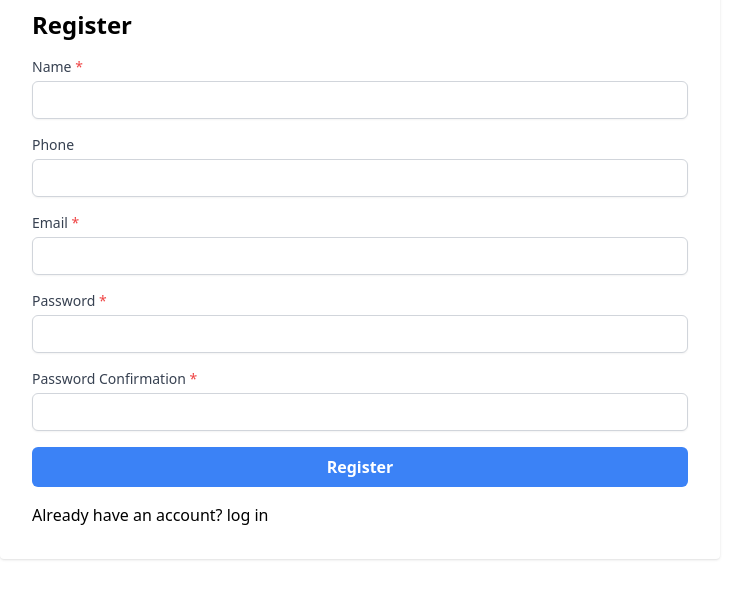
Test: Register page tests › Form validation › Name should be required
Type "User" into the field with id "name" at (360, 100), box x1=32 y1=81 x2=688 y2=119
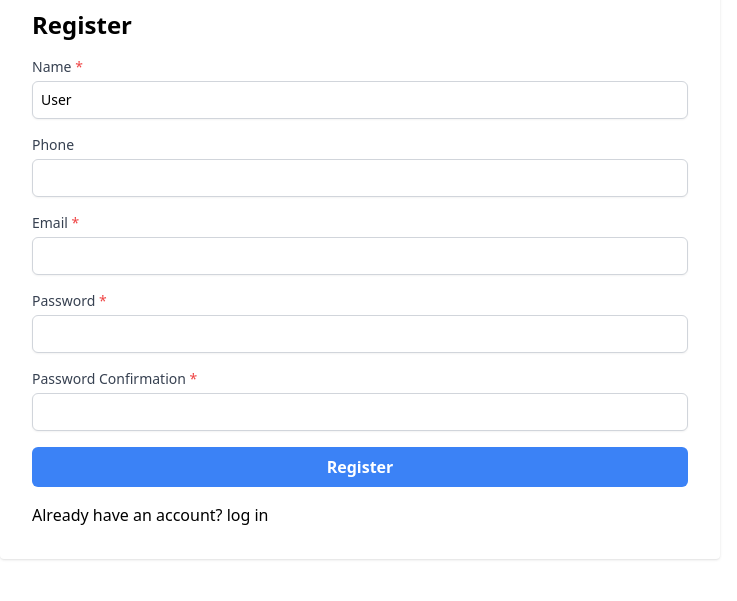
Clear the field with id "name" at (360, 100), box x1=32 y1=81 x2=688 y2=119
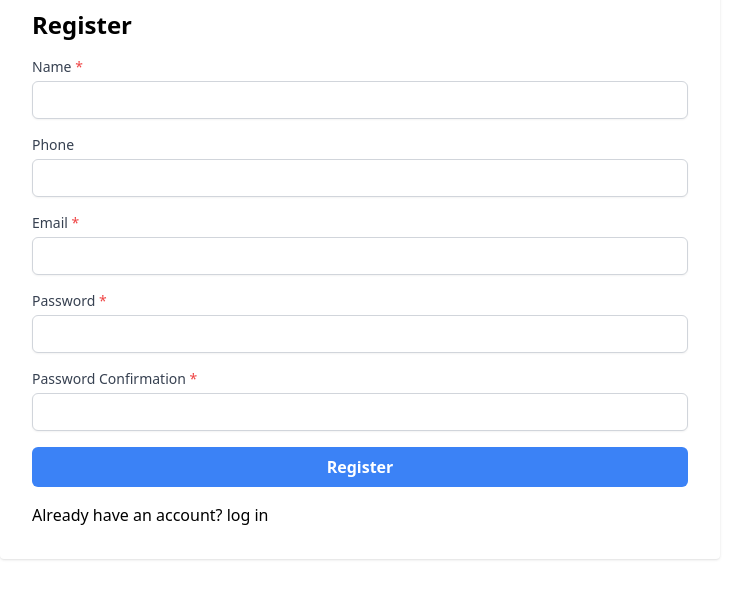
Leave the field with id "name", box x1=32 y1=81 x2=688 y2=119
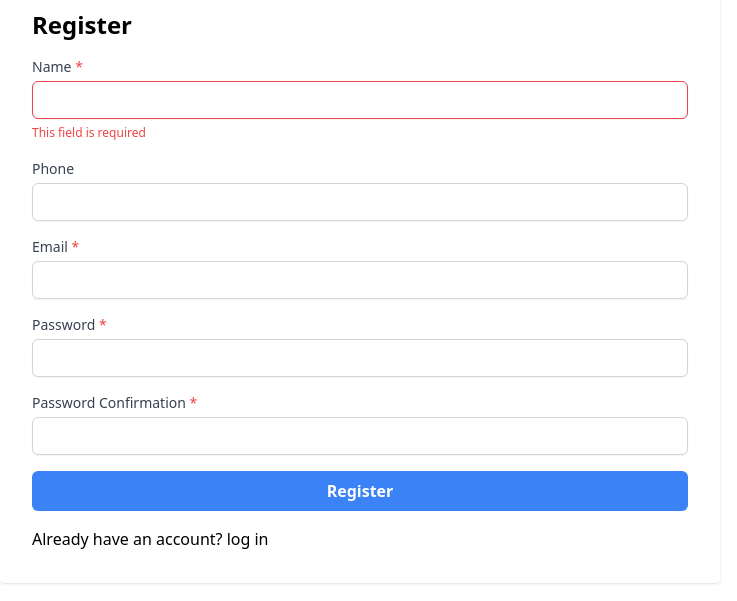
Expected: the text with id "name-error" reads "This field is required", x1=32 y1=124 x2=146 y2=141
